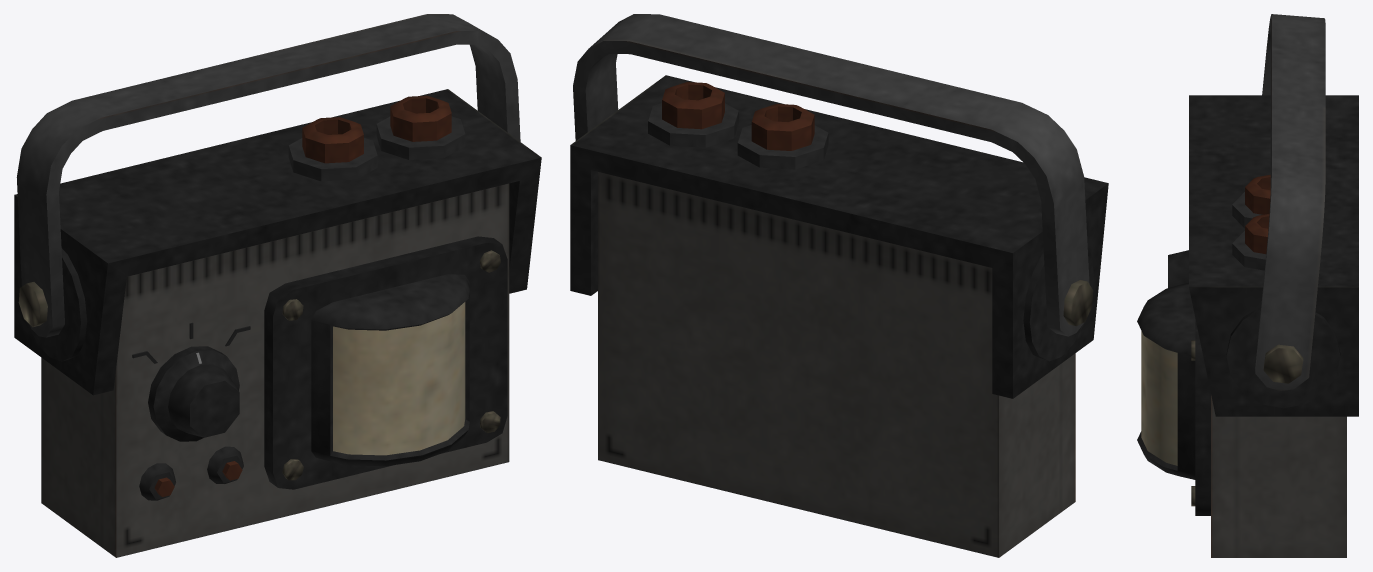
Rendered from signal_receiver_etx_1.obj.
The picture shows the model from 3 angles, left to right: view 1: azimuth 30°, elevation 25°; view 2: azimuth 150°, elevation 25°; view 3: azimuth 270°, elevation 25°; orthographic projection. The views are drawn at different scales.
Visible parts, largest first — view 1: signal_receiver_etx_1, signal_receiver_etx_1_handle_child_4, signal_receiver_etx_1_knob_child; view 2: signal_receiver_etx_1, signal_receiver_etx_1_handle_child_4; view 3: signal_receiver_etx_1, signal_receiver_etx_1_handle_child_4, signal_receiver_etx_1_knob_child.
Part boxes in pixels (bbox=[...]): signal_receiver_etx_1: bbox=[14, 89, 541, 557]; signal_receiver_etx_1_handle_child_4: bbox=[16, 14, 520, 337]; signal_receiver_etx_1_knob_child: bbox=[148, 346, 239, 441]; signal_receiver_etx_1: bbox=[570, 75, 1108, 557]; signal_receiver_etx_1_handle_child_4: bbox=[573, 14, 1089, 336]; signal_receiver_etx_1: bbox=[1137, 95, 1358, 557]; signal_receiver_etx_1_handle_child_4: bbox=[1255, 14, 1325, 390]; signal_receiver_etx_1_knob_child: bbox=[1168, 250, 1188, 287].
Bounding box in the file's own units: 0.3321 × 0.2684 × 0.1448.
